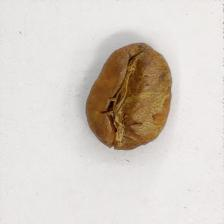NG: (104, 44, 171, 139)
